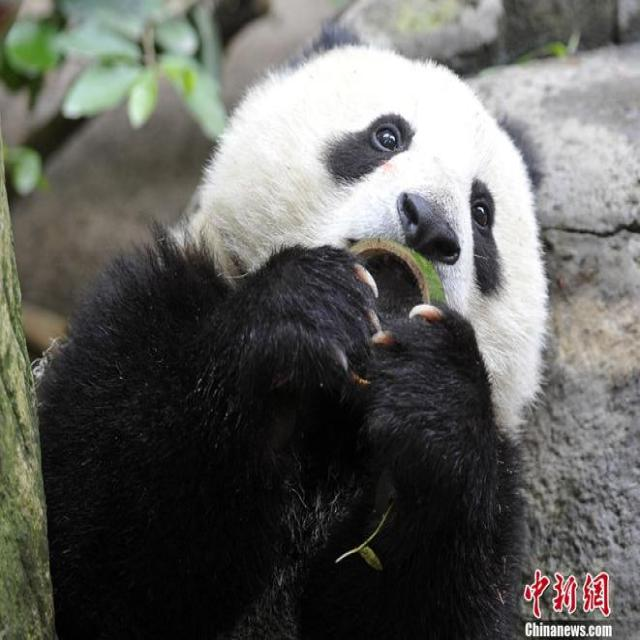panda: (66, 10, 551, 579)
